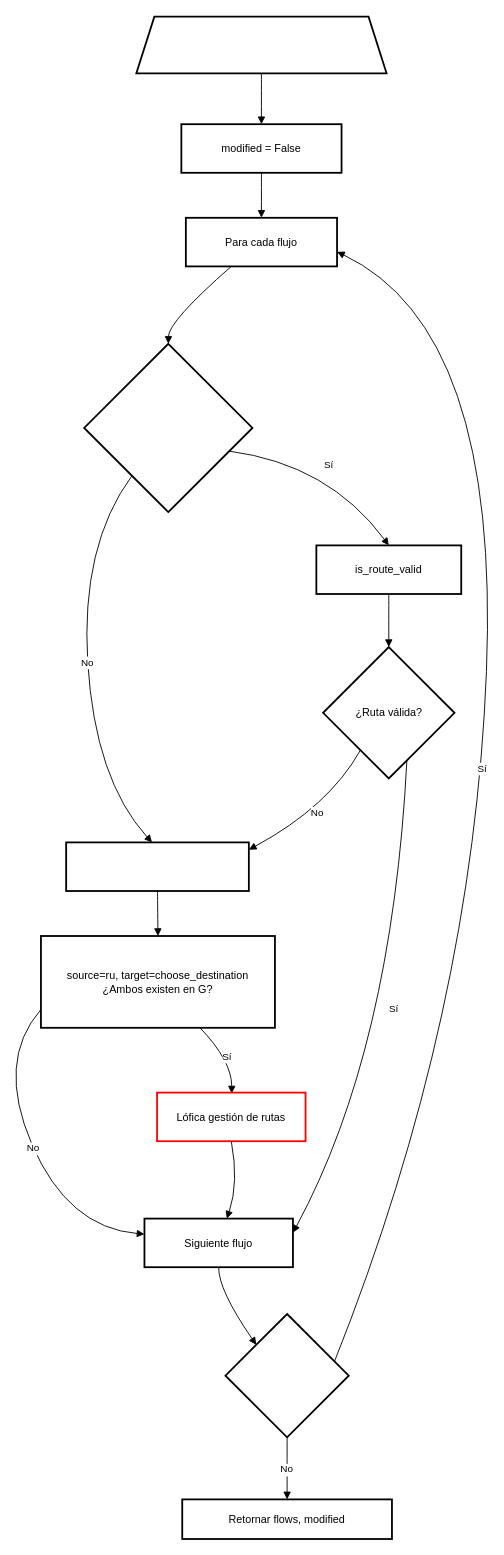
The diagram is 504 pixels wide and 1555 high, and some of its shapes have lost their labels. Here are the shapes that lost their labels. From the top down, the centre of each, then its label:
At pixel 261 44: "recalc_routes(G, flows, tables, inactive_routers)".
At pixel 168 427: "¿Flujo tiene ruta?".
At pixel 157 866: "needs_recalc = True".
At pixel 286 1375: "¿Más flujos?".
